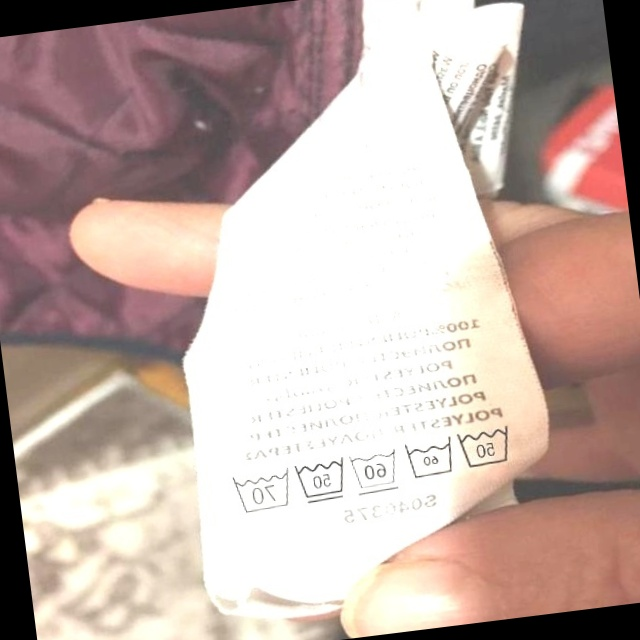50C: (452, 417, 520, 474), (290, 453, 352, 508)
60C: (344, 443, 403, 498), (399, 432, 459, 485)
70C: (225, 465, 294, 518)
